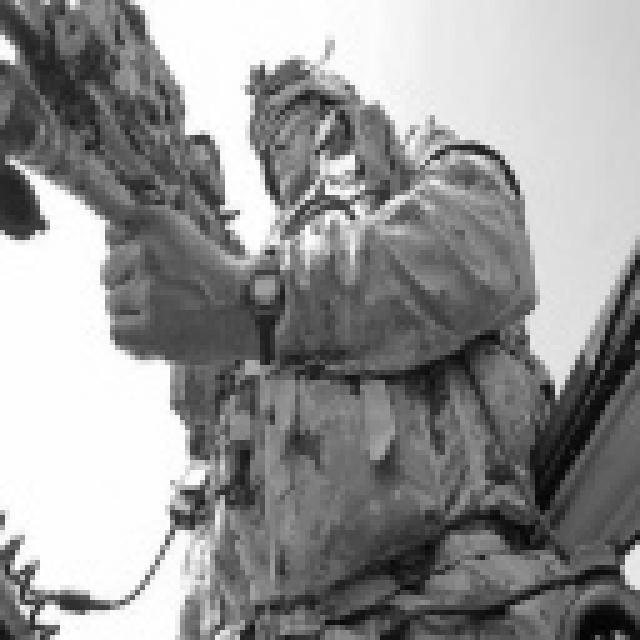Rifle: (0, 0, 256, 327)
